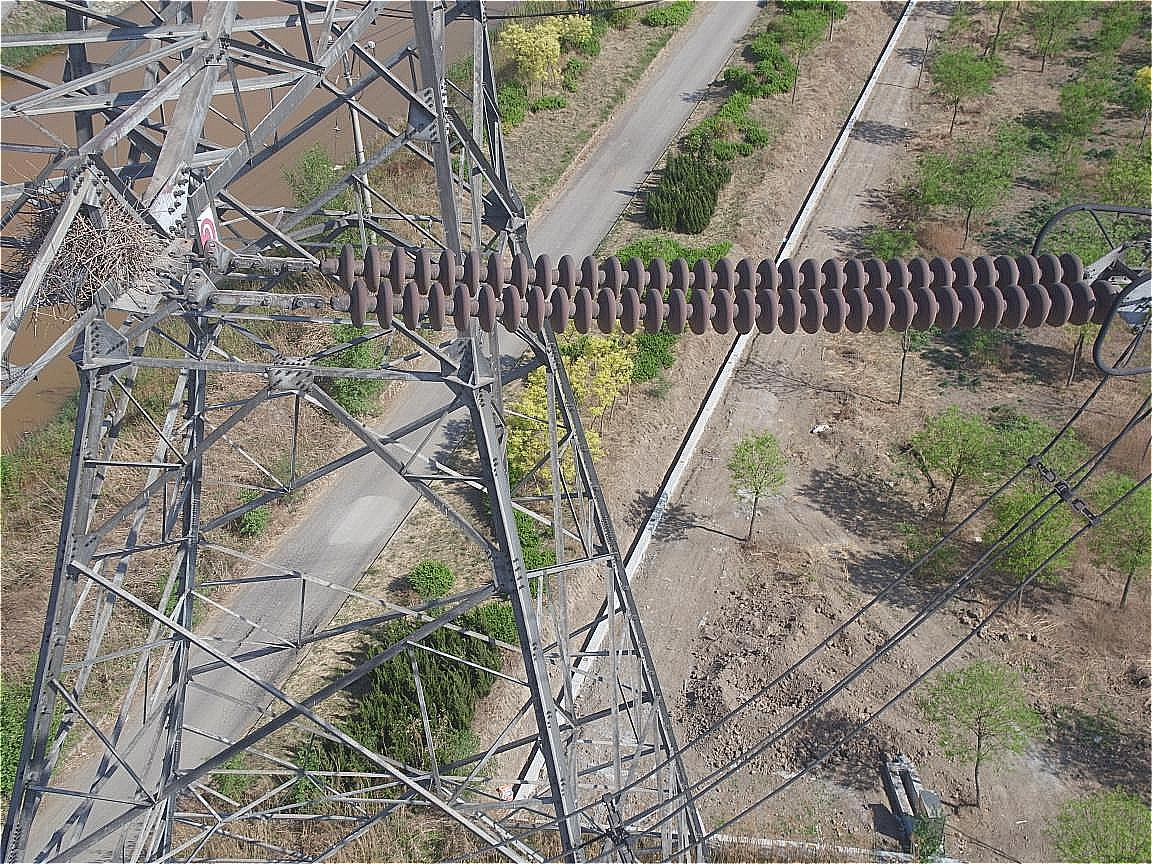insultor1: (295, 213, 1111, 347)
